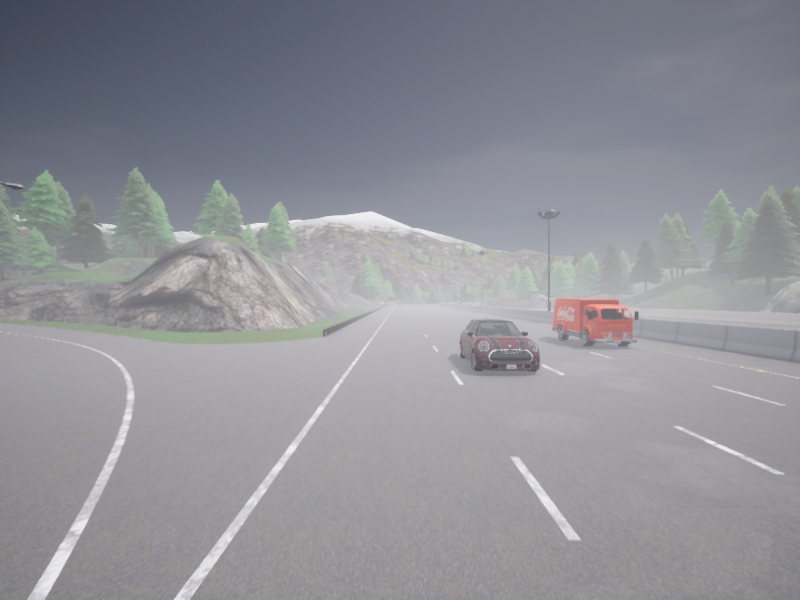vehicle: (459, 317, 539, 371), (552, 298, 638, 346), (458, 302, 462, 304), (468, 303, 470, 304)
